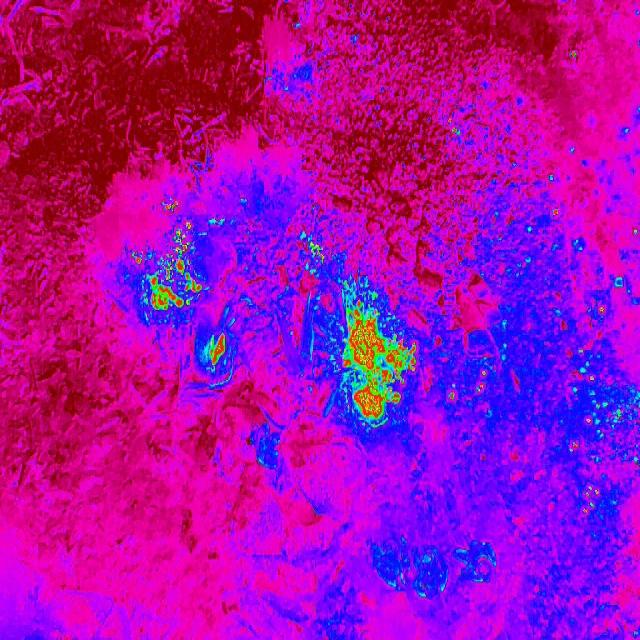fire: (553, 262, 640, 518), (336, 285, 416, 426), (134, 220, 210, 315), (440, 366, 492, 410), (205, 331, 230, 372), (306, 238, 331, 270), (560, 40, 583, 62), (160, 199, 180, 216)
